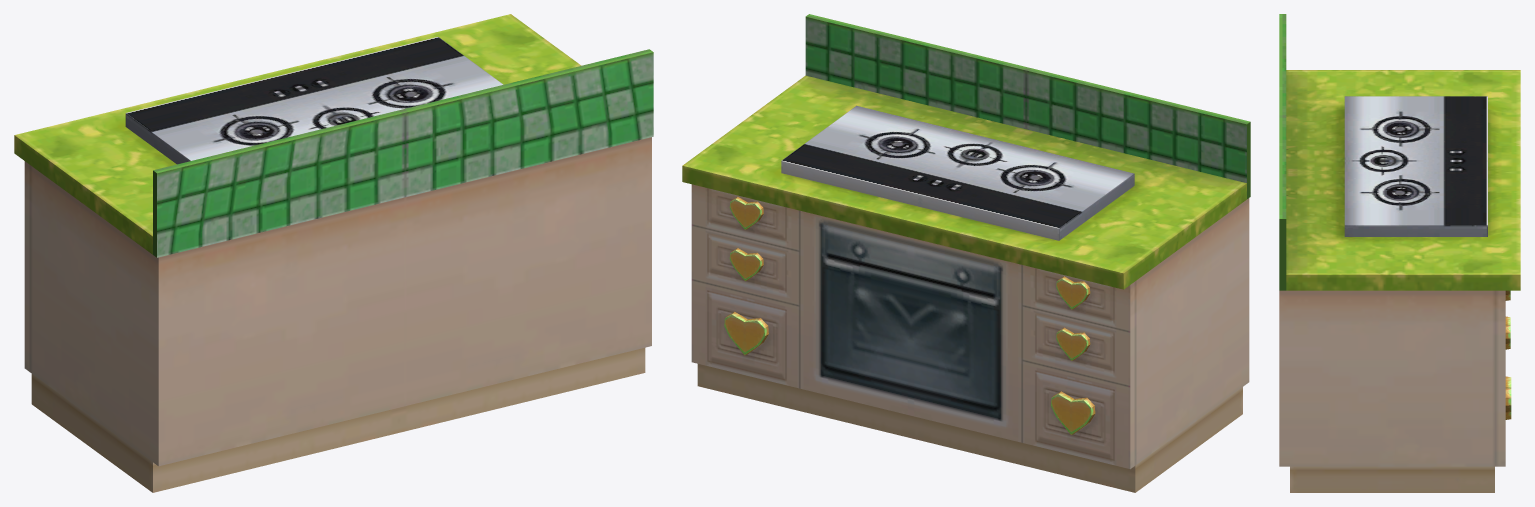
File: furni_0200018_02.FBX
3 renders of one model, left to right at view 1: azimuth 30°, elevation 25°; view 2: azimuth 150°, elevation 25°; view 3: azimuth 270°, elevation 25°, orthographic. The views are drawn at different scales.
Visible parts, largest first — view 1: furni_0200018_02; view 2: furni_0200018_02; view 3: furni_0200018_02.
Boxes of the visible parts, x1,y1,x2,y2 form: furni_0200018_02: [14, 14, 653, 492]; furni_0200018_02: [682, 14, 1250, 492]; furni_0200018_02: [1279, 14, 1520, 492].
Size of the model in its own units: 161 by 100 by 80.
